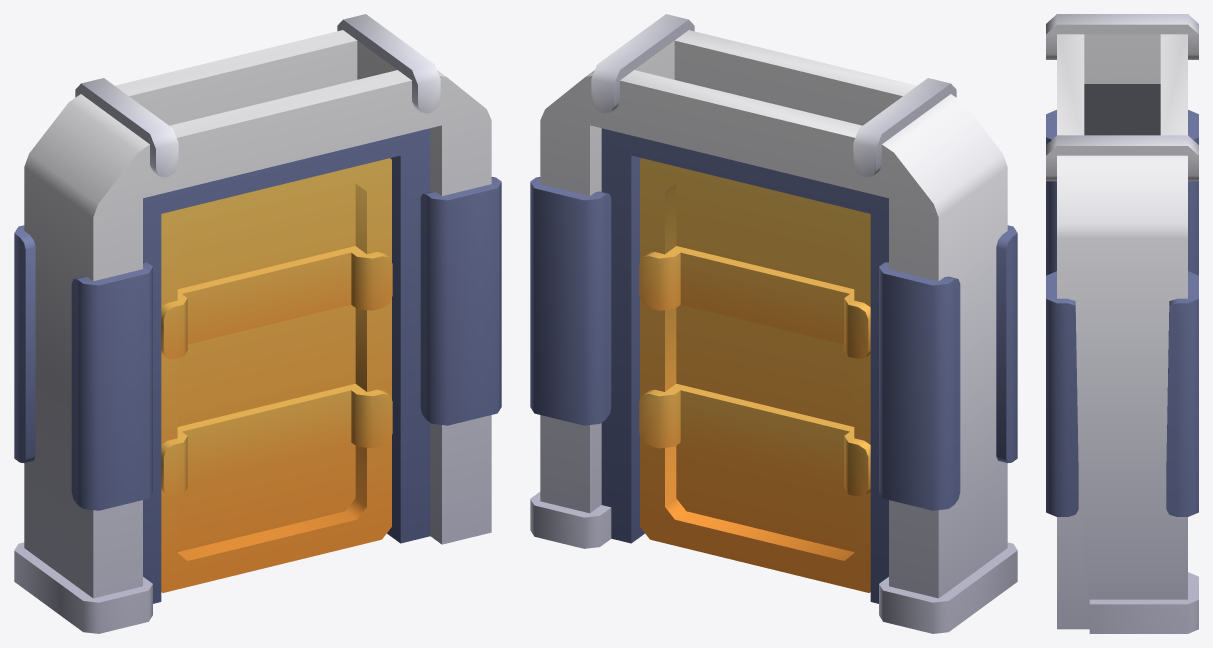
File: kenney-space-gate-door.glb
The picture shows the model from 3 angles, left to right: view 1: azimuth 30°, elevation 25°; view 2: azimuth 150°, elevation 25°; view 3: azimuth 270°, elevation 25°; orthographic projection. The views are drawn at different scales.
Visible parts, largest first — view 1: gate-door, door; view 2: gate-door, door; view 3: gate-door.
Boxes of the visible parts, bbox=[...] form: gate-door: bbox=[14, 14, 501, 633]; door: bbox=[161, 158, 392, 592]; gate-door: bbox=[530, 14, 1017, 633]; door: bbox=[639, 158, 870, 592]; gate-door: bbox=[1046, 14, 1198, 633].
Bounding box in the file's own units: 3.15 × 3.47 × 1.05.
1 material, 1 textured.
